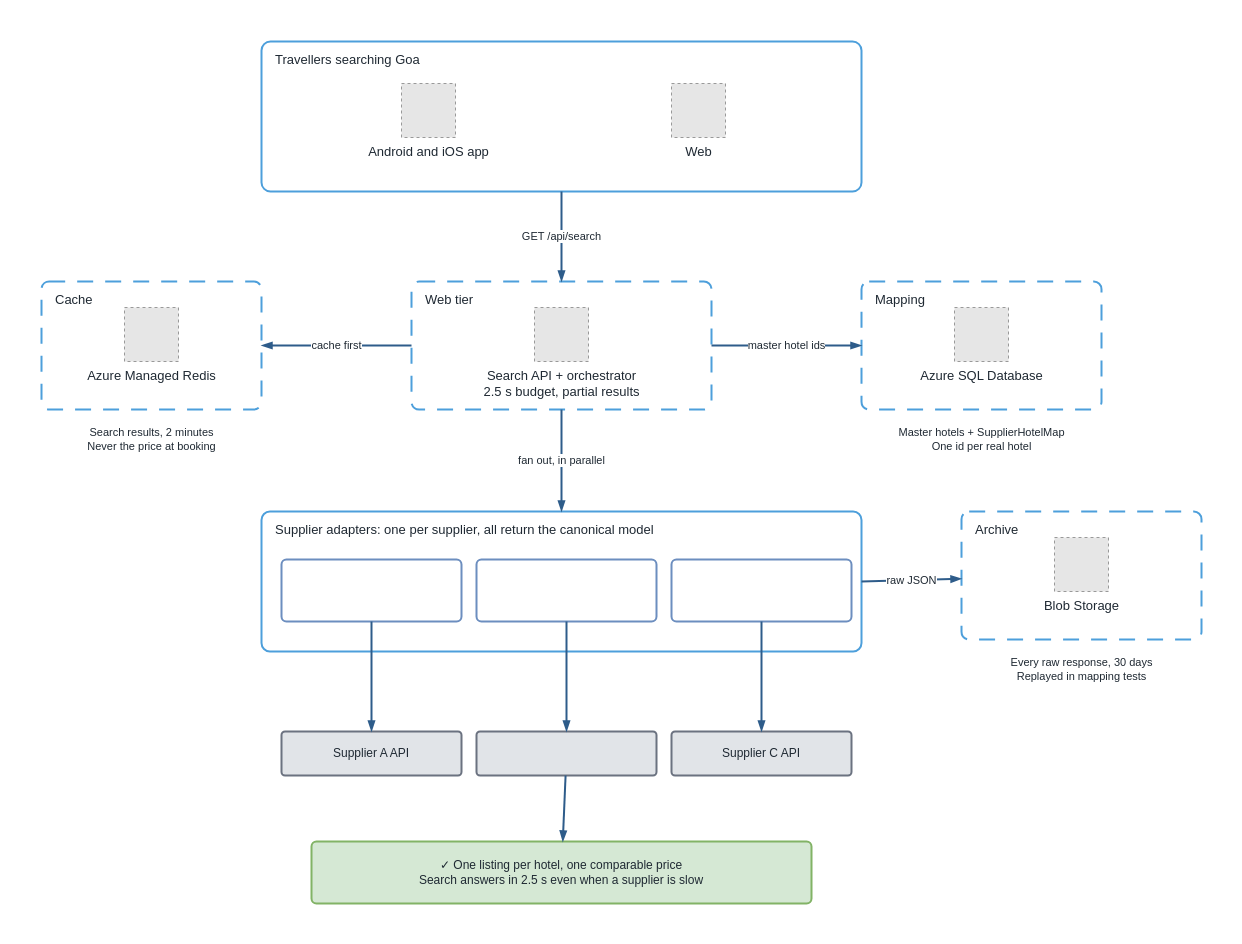
The diagram is 1242 pixels wide and 944 high, and some of its shapes have lost their labels. Grey dashed boxes stand in for pictures. The shapes that lost their labels are listed below. From the top down, each one's centre as x and y in pixels, then its label:
At (371,590): "Adapter A auth, map, normalise".
At (566,590): "Adapter B paise to rupees, dates".
At (761,590): "Adapter C start search, then poll".
At (566,753): "Supplier B API".
